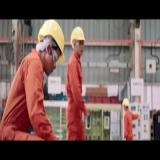Helmet: (37, 19, 65, 67), (70, 26, 86, 49), (123, 98, 130, 110)
